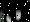person: (2, 8, 11, 22), (17, 11, 22, 22)
